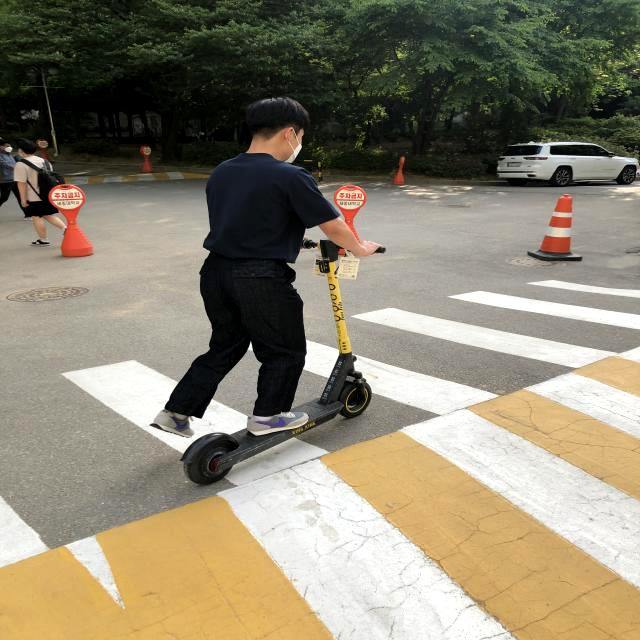bare_head: (227, 82, 327, 171)
human: (158, 76, 318, 409)
kickboard: (176, 369, 379, 512)
